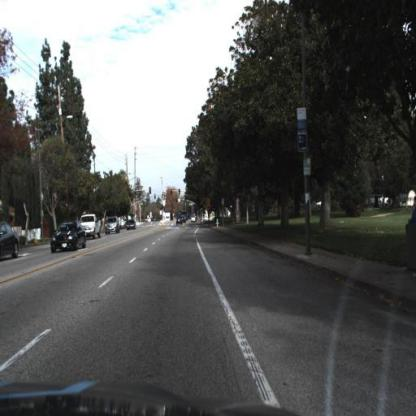car: (49, 220, 88, 256), (1, 222, 22, 264), (104, 216, 122, 240), (124, 219, 139, 232), (175, 215, 187, 231), (188, 213, 197, 229)
